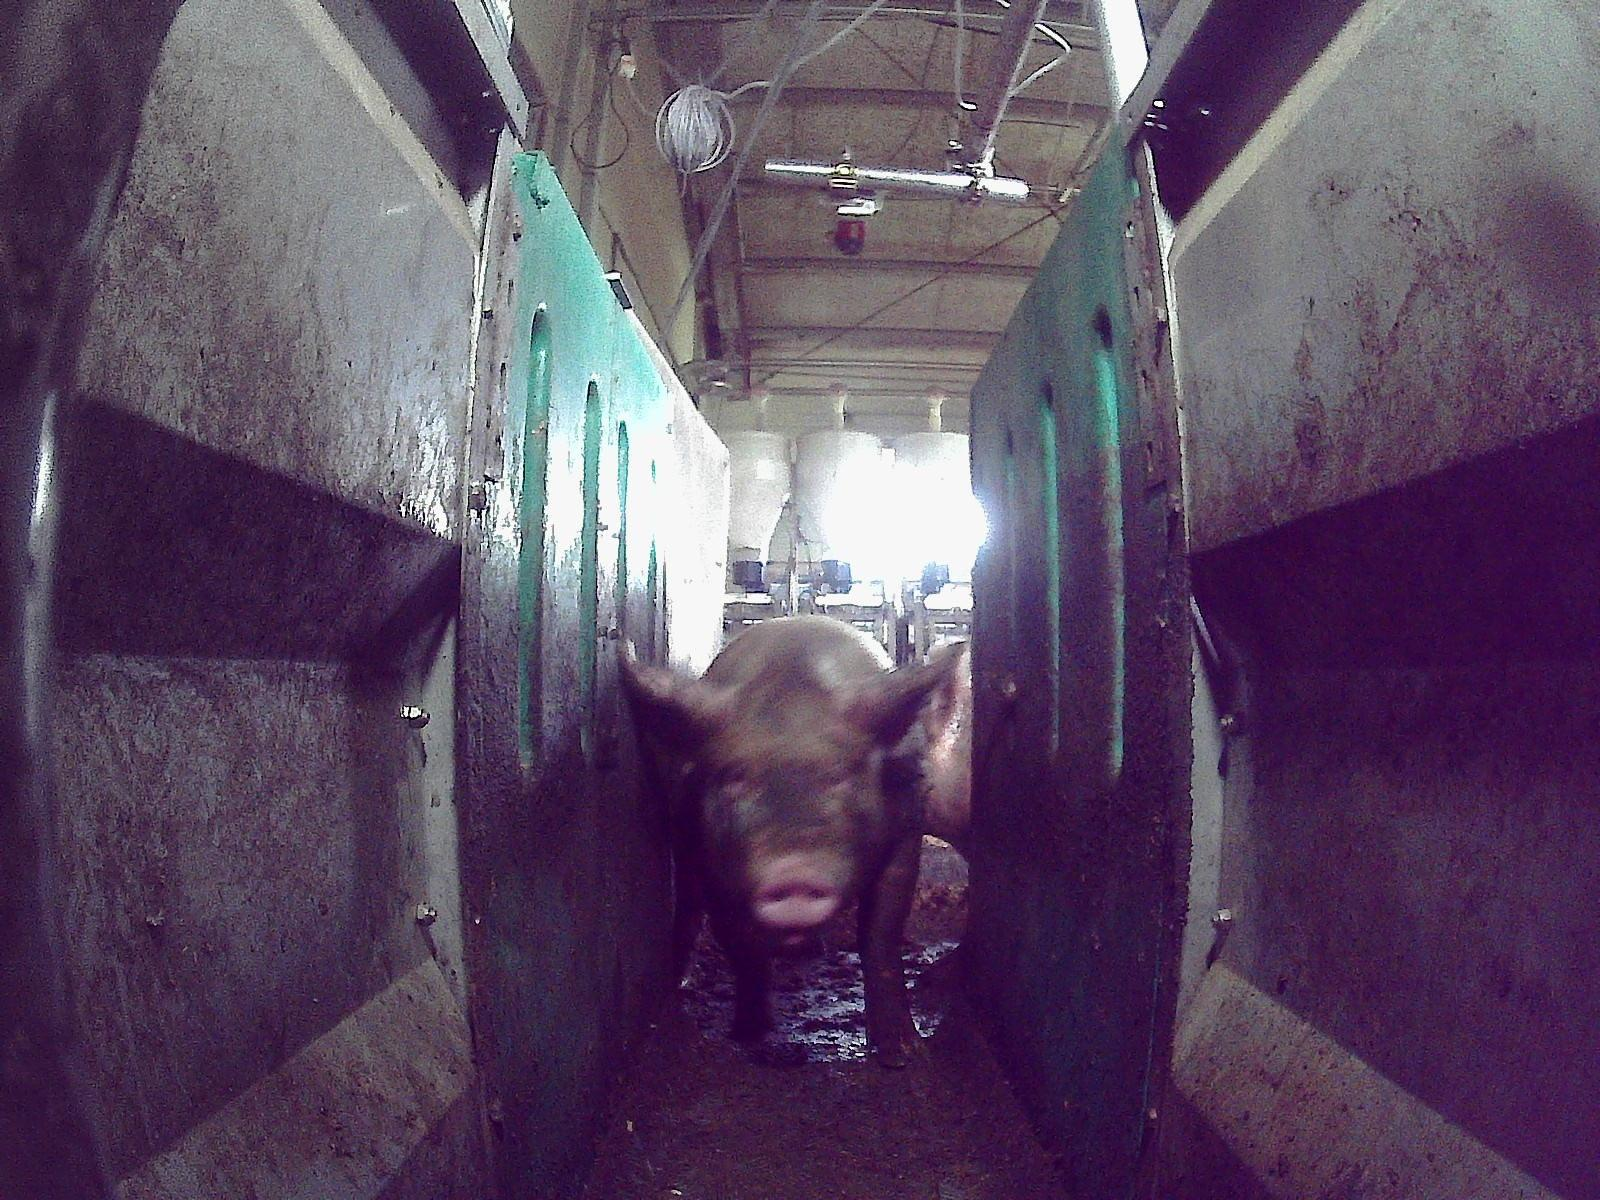Face: (688, 654, 895, 943)
